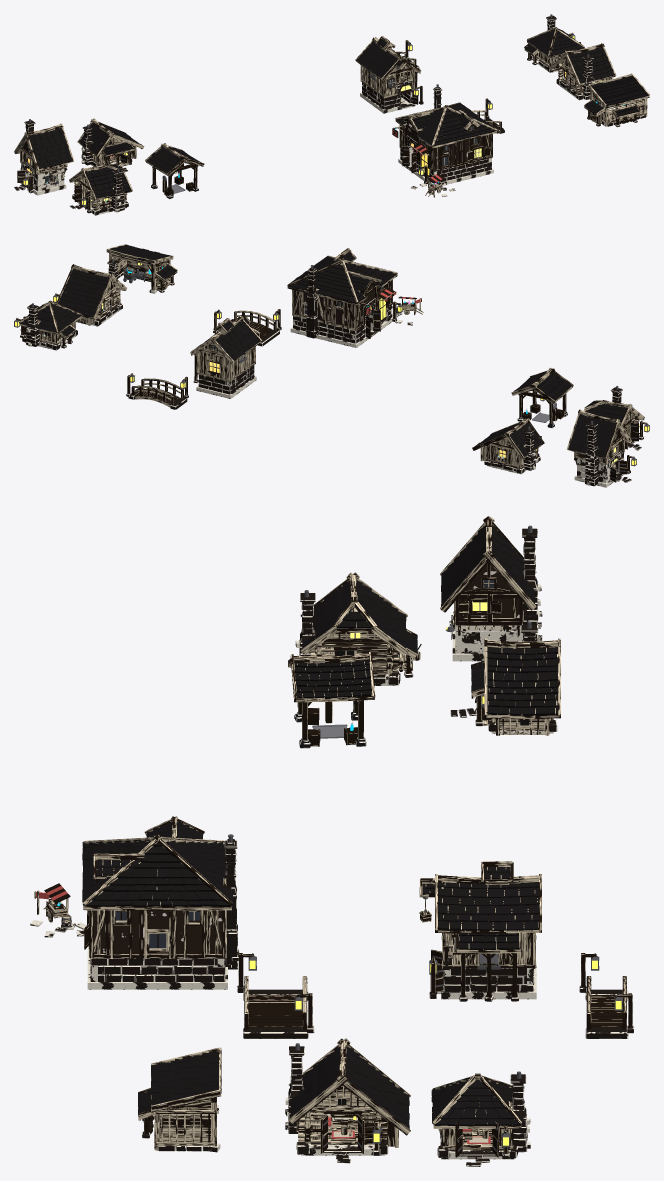
File: LOBBY_07_BUILDINGS_87a2cf.fbx
3 renders of one model, top to bottom at view 1: azimuth 30°, elevation 25°; view 2: azimuth 150°, elevation 25°; view 3: azimuth 270°, elevation 25°, orthographic. The views are drawn at different scales.
Parts seen in each view (by area): view 1: BLD_Shop__Wood_Dark, BLD_Shop__Roof_Tile_Aged, BLD_WheelHouse__Wood_Dark, BLD_Crystal_Shed__Roof, BLD_Crystal_Shed__Wood_Dark, BLD_Cabin_West_B__Roof_Tile_Aged, BLD_Cabin_West_B__Wood_Dark, BLD_Shop__Stone_Dark, BLD_Rail_Weigh_Station__Wood_Dark, BLD_Cabin_West_C__Wood_Dark, BLD_WheelHouse__Roof, BLD_Cabin_East_A__Roof (+19 smaller); view 2: BLD_Shop__Wood_Dark, BLD_Shop__Roof_Tile_Aged, BLD_WheelHouse__Wood_Dark, BLD_Cabin_East_A__Roof, BLD_Shop__Stone_Dark, BLD_Cabin_West_B__Stone_Dark, BLD_Shop__Stone_Light, BLD_Cabin_West_C__Wood_Dark, BLD_Cabin_West_B__Wood_Dark, BLD_Rail_Weigh_Station__Wood_Dark, BLD_Cabin_West_B__Roof_Tile_Aged, BLD_WheelHouse__Roof (+22 smaller); view 3: BLD_Shop__Roof_Tile_Aged, BLD_Shop__Wood_Dark, BLD_WheelHouse__Roof, BLD_Cabin_West_C__Roof_Shingle_Dark, BLD_WheelHouse__Wood_Dark, BLD_Cabin_West_B__Wood_Dark, BLD_Shop__Stone_Dark, BLD_Cabin_West_A__Roof, BLD_Cabin_East_A__Roof, BLD_Shop__Plaster, BLD_Crystal_Shed__Roof, BLD_Cabin_East_A__Wood_Dark (+21 smaller).
Part boxes in pixels (x1,y1,x2,y2): BLD_Shop__Wood_Dark: [392, 102, 496, 181]; BLD_Shop__Roof_Tile_Aged: [395, 103, 496, 146]; BLD_WheelHouse__Wood_Dark: [355, 36, 422, 101]; BLD_Crystal_Shed__Roof: [584, 75, 648, 116]; BLD_Crystal_Shed__Wood_Dark: [584, 73, 649, 126]; BLD_Cabin_West_B__Roof_Tile_Aged: [28, 127, 72, 168]; BLD_Cabin_West_B__Wood_Dark: [14, 123, 74, 190]; BLD_Shop__Stone_Dark: [398, 88, 493, 185]; BLD_Rail_Weigh_Station__Wood_Dark: [145, 143, 204, 195]; BLD_Cabin_West_C__Wood_Dark: [77, 118, 144, 165]; BLD_WheelHouse__Roof: [356, 38, 417, 78]; BLD_Cabin_East_A__Roof: [568, 47, 614, 83]; BLD_Shop__Wood_Dark: [287, 248, 401, 330]; BLD_Shop__Roof_Tile_Aged: [287, 252, 397, 303]; BLD_WheelHouse__Wood_Dark: [190, 315, 262, 382]; BLD_Cabin_East_A__Roof: [58, 268, 109, 317]; BLD_Shop__Stone_Dark: [290, 269, 396, 347]; BLD_Cabin_West_B__Stone_Dark: [574, 426, 631, 487]; BLD_Shop__Stone_Light: [302, 267, 391, 338]; BLD_Cabin_West_C__Wood_Dark: [472, 417, 544, 468]; BLD_Cabin_West_B__Wood_Dark: [566, 409, 634, 476]; BLD_Rail_Weigh_Station__Wood_Dark: [511, 367, 573, 423]; BLD_Cabin_West_B__Roof_Tile_Aged: [568, 414, 615, 457]; BLD_WheelHouse__Roof: [197, 319, 260, 360]; BLD_Shop__Roof_Tile_Aged: [82, 822, 233, 906]; BLD_Shop__Wood_Dark: [82, 816, 233, 958]; BLD_WheelHouse__Roof: [422, 867, 539, 949]; BLD_Cabin_West_C__Roof_Shingle_Dark: [471, 647, 558, 725]; BLD_WheelHouse__Wood_Dark: [419, 861, 541, 997]; BLD_Cabin_West_B__Wood_Dark: [440, 516, 536, 635]; BLD_Shop__Stone_Dark: [87, 840, 239, 989]; BLD_Cabin_West_A__Roof: [301, 580, 417, 655]; BLD_Cabin_East_A__Roof: [290, 1046, 409, 1128]; BLD_Shop__Plaster: [93, 872, 222, 954]; BLD_Crystal_Shed__Roof: [138, 1050, 221, 1113]; BLD_Cabin_East_A__Wood_Dark: [288, 1038, 410, 1150].
Bounding box in the file's own units: 233 × 26.74 × 108.
Materials: 18 (4 with a texture image).
